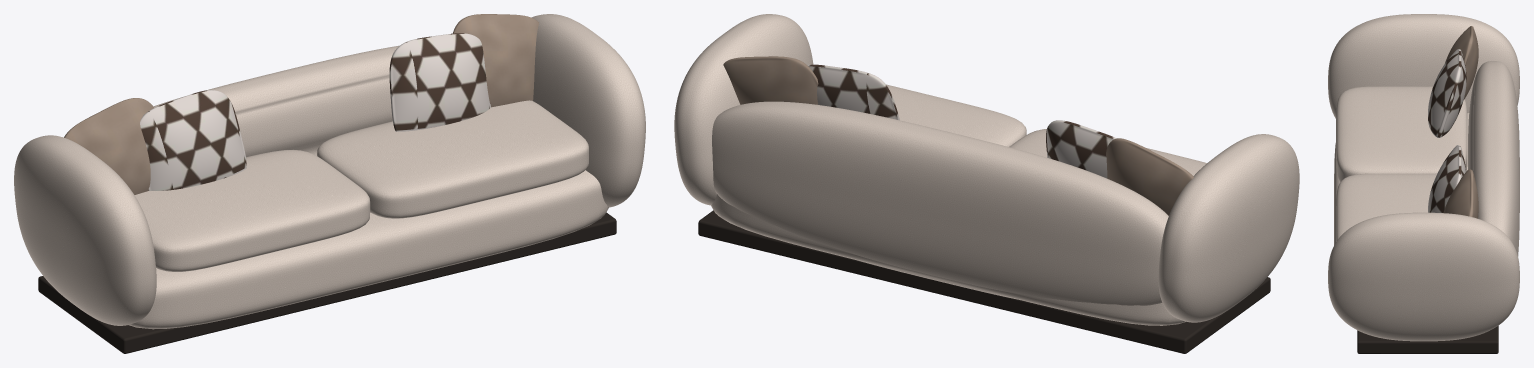
The model's file is glory-sofa-set--sofa3.glb.
3 views of the same model, side by side, from view 1: azimuth 30°, elevation 25°; view 2: azimuth 150°, elevation 25°; view 3: azimuth 270°, elevation 25° (orthographic). The views are drawn at different scales.
Visible parts, largest first — view 1: body, seat1, arm-1, seat0, arm1, back, pb1, pb-1, plinth, pa1, pa-1; view 2: back, arm-1, plinth, arm1, body, seat1, pa1, pa-1, pb1, pb-1, seat0; view 3: arm1, arm-1, seat0, back, seat1, plinth, pb-1, pb1, pa1, pa-1, body.
Part boxes in pixels (x1,y1,x2,y2): body: [129, 170, 608, 329]; seat1: [317, 100, 588, 218]; arm-1: [14, 135, 156, 325]; seat0: [134, 149, 370, 271]; arm1: [531, 14, 645, 207]; back: [153, 45, 399, 156]; pb1: [389, 33, 490, 131]; pb-1: [140, 90, 246, 190]; plinth: [38, 212, 616, 353]; pa1: [453, 14, 539, 107]; pa-1: [64, 98, 153, 194]; back: [712, 101, 1168, 305]; arm-1: [1158, 134, 1299, 322]; plinth: [698, 210, 1270, 353]; arm1: [674, 14, 813, 205]; body: [711, 194, 1185, 325]; seat1: [886, 84, 1026, 146]; pa1: [723, 56, 818, 104]; pa-1: [1106, 138, 1193, 215]; pb1: [807, 64, 899, 120]; pb-1: [1046, 120, 1116, 178]; seat0: [1009, 129, 1206, 175]; arm1: [1328, 212, 1519, 341]; arm-1: [1328, 14, 1519, 118]; seat0: [1336, 86, 1467, 181]; back: [1468, 61, 1519, 256]; seat1: [1336, 173, 1436, 241]; plinth: [1357, 325, 1498, 353]; pb-1: [1428, 49, 1466, 137]; pb1: [1428, 145, 1465, 212]; pa1: [1443, 169, 1478, 218]; pa-1: [1445, 26, 1478, 99]; body: [1334, 113, 1469, 245].
Size of the model in its own units: 2.58 by 0.8317 by 0.9499.
4 materials, 3 textured.
